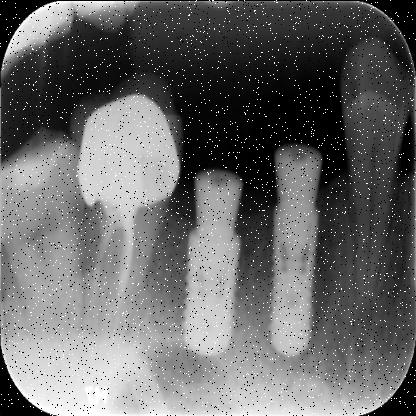ITI: (262, 205, 322, 357), (176, 234, 244, 354)
